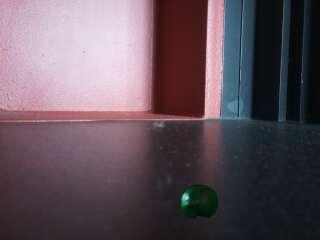Lime: (178, 182, 222, 222)
